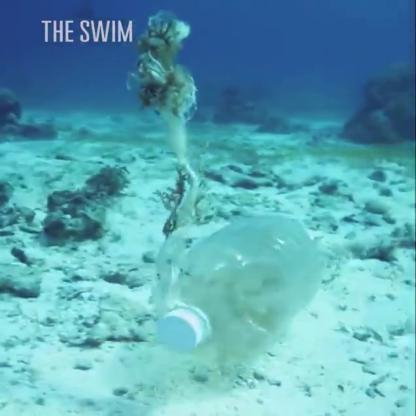Rác: (161, 213, 333, 363)
